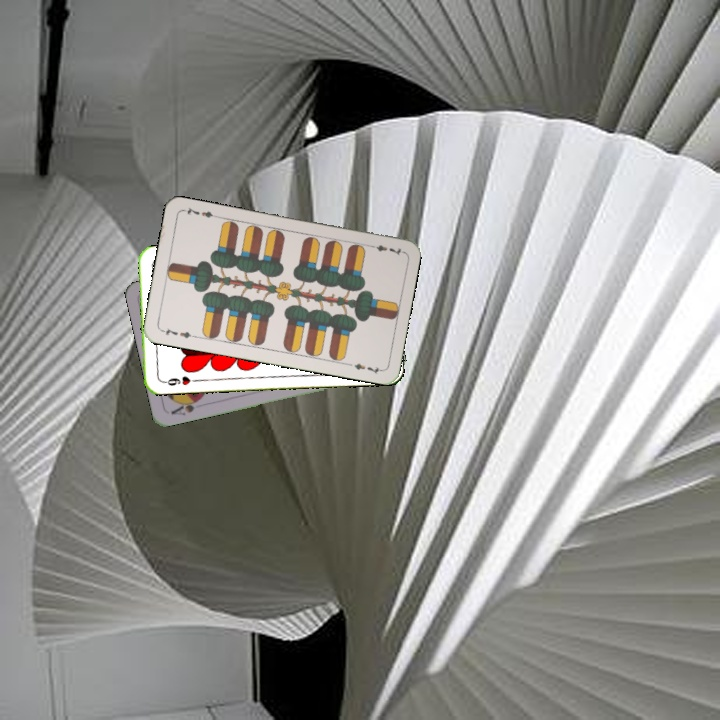E7: (158, 324, 198, 341), (365, 241, 405, 258)
H9: (158, 372, 199, 388)
SA: (167, 394, 205, 418)
